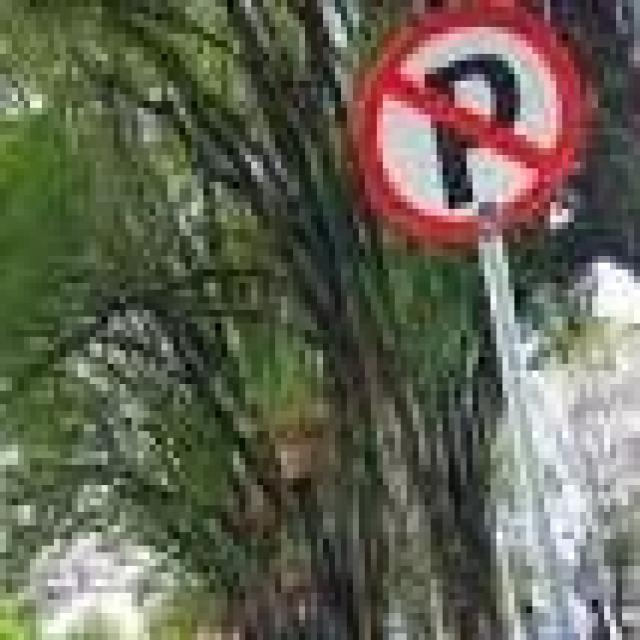traffic sign: (359, 7, 586, 243)
